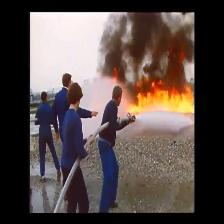fire: (130, 85, 195, 114)
smoke: (106, 14, 193, 83)
